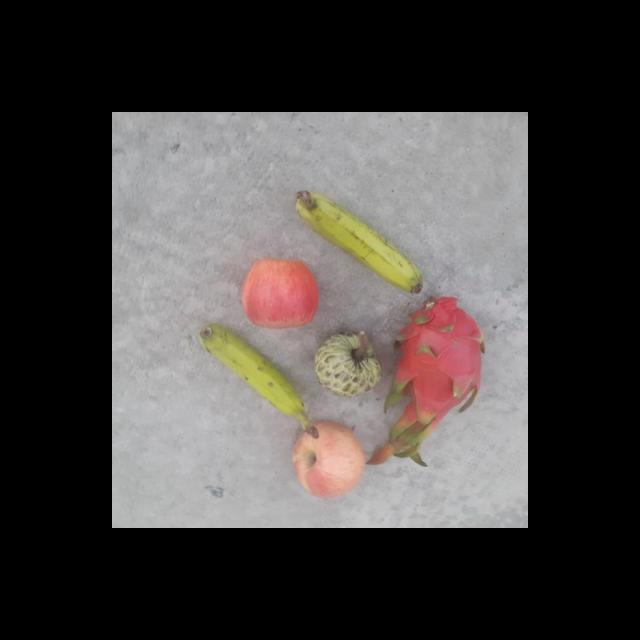Sakya fruit: (314, 327, 383, 399)
apple: (291, 418, 368, 500), (240, 253, 322, 329)
banana: (198, 326, 322, 440), (294, 192, 422, 296)
pitaya: (393, 294, 490, 431)
